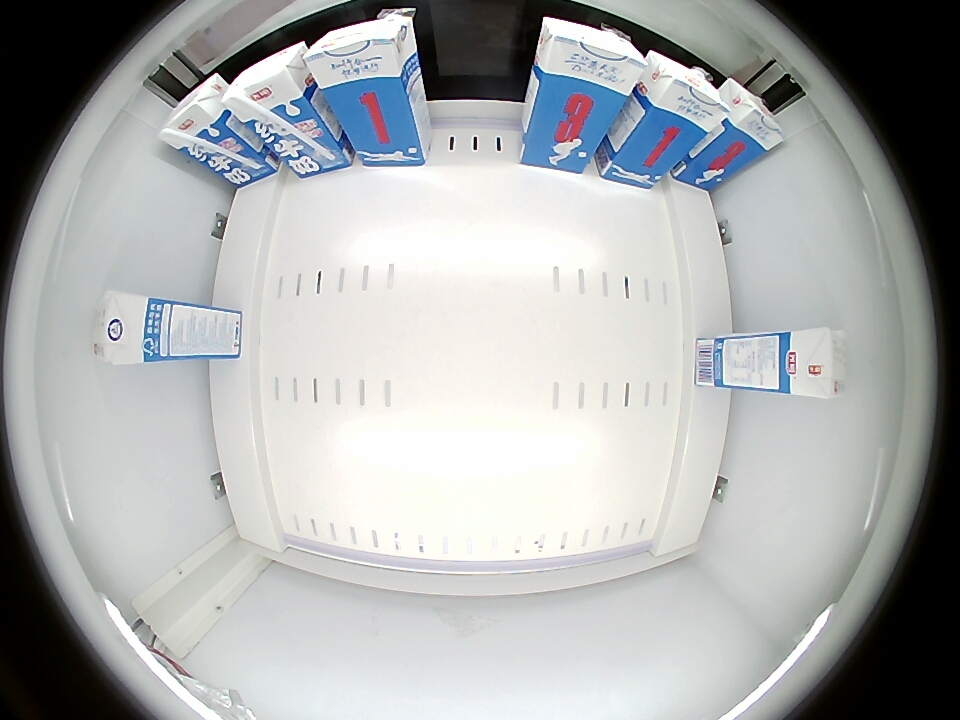niunai: (531, 16, 646, 97), (303, 12, 419, 92), (223, 42, 314, 129), (637, 49, 726, 133), (159, 72, 232, 156), (715, 78, 784, 154), (778, 327, 845, 398), (92, 292, 156, 365)
